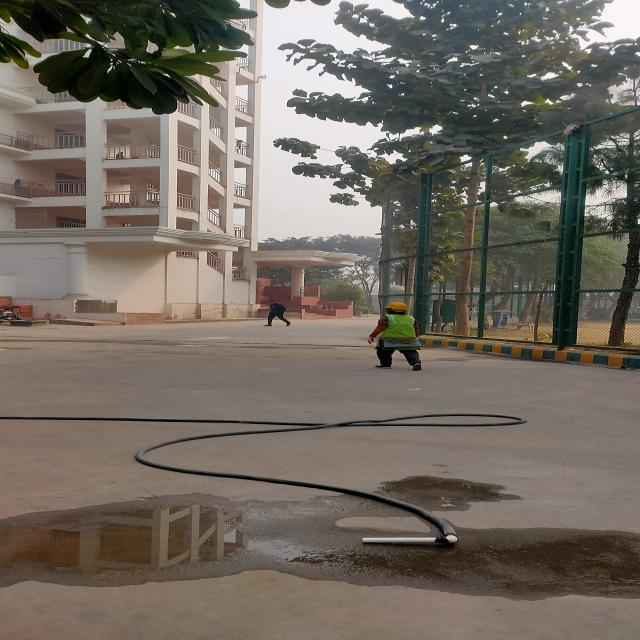safe: (367, 302, 425, 372)
unsafe: (266, 299, 294, 328)
